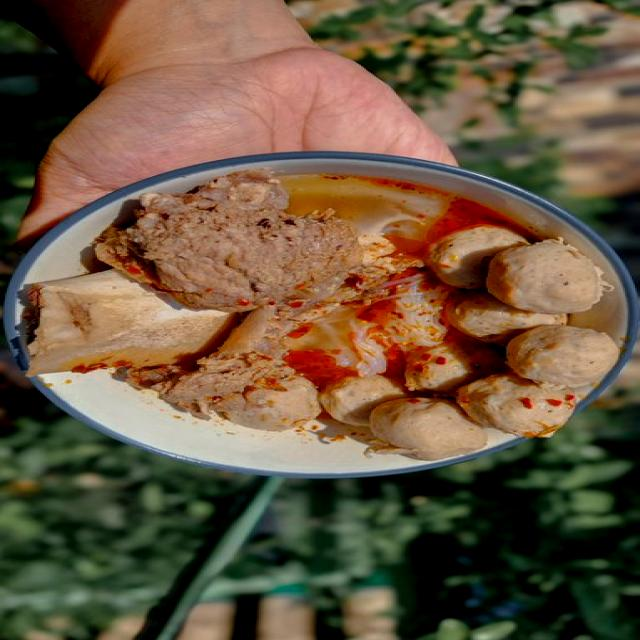bakso: (20, 162, 630, 475)
